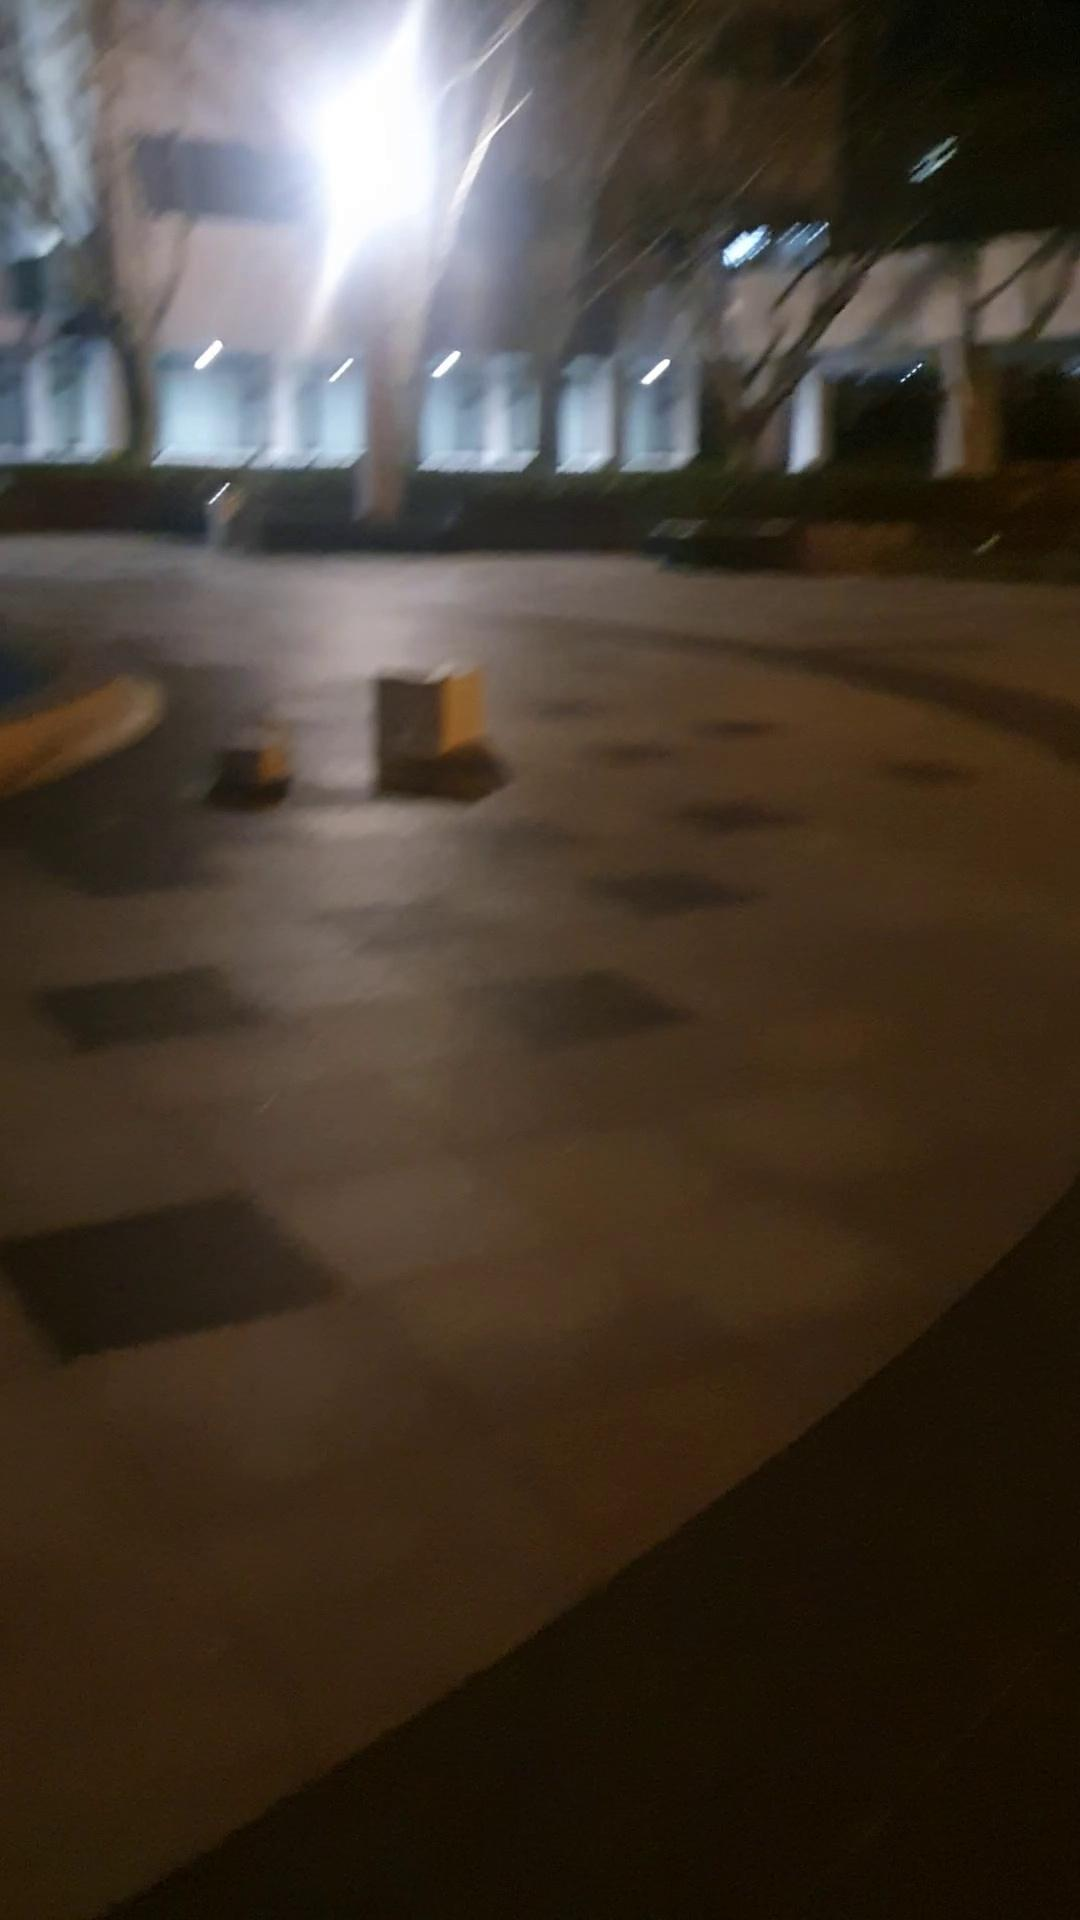Box: (367, 644, 493, 770), (216, 723, 293, 810)
